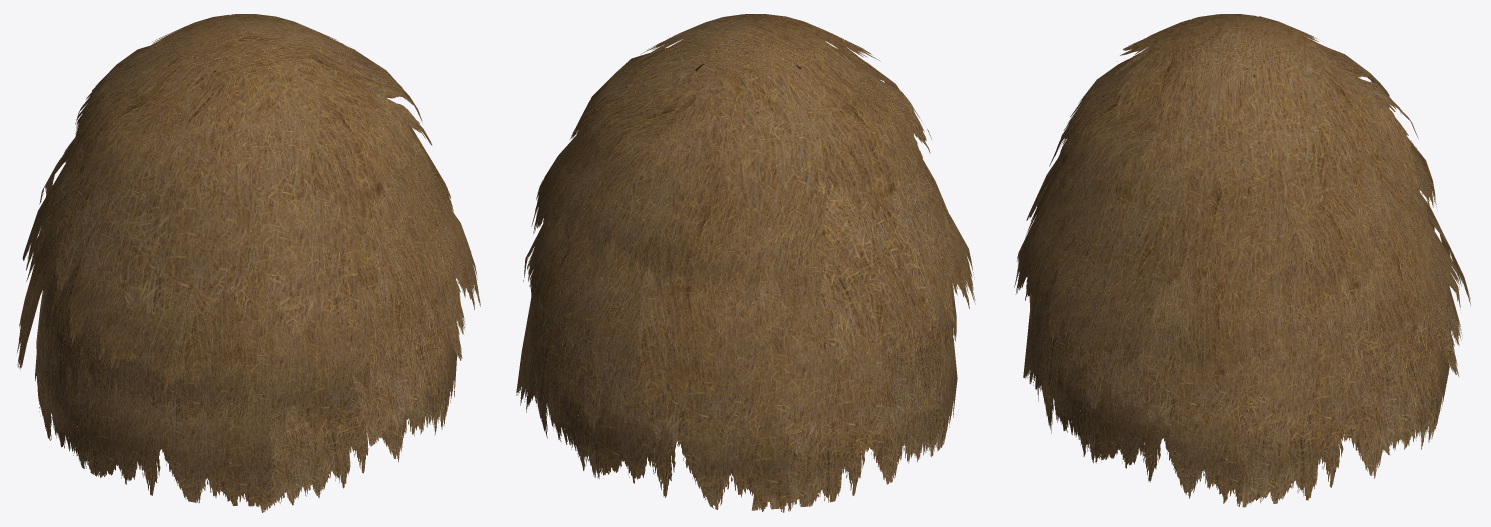
Rendered from Romto.fbx.
3 views of the same model, side by side, from view 1: azimuth 30°, elevation 25°; view 2: azimuth 150°, elevation 25°; view 3: azimuth 270°, elevation 25° (orthographic).
Parts seen in each view (by area): view 1: pasted__rom; view 2: pasted__rom; view 3: pasted__rom.
Part boxes in pixels (bbox=[...]): pasted__rom: bbox=[17, 14, 480, 512]; pasted__rom: bbox=[516, 14, 975, 512]; pasted__rom: bbox=[1014, 14, 1470, 507].
Size of the model in its own units: 134 by 128 by 139.
1 material, 1 textured.
